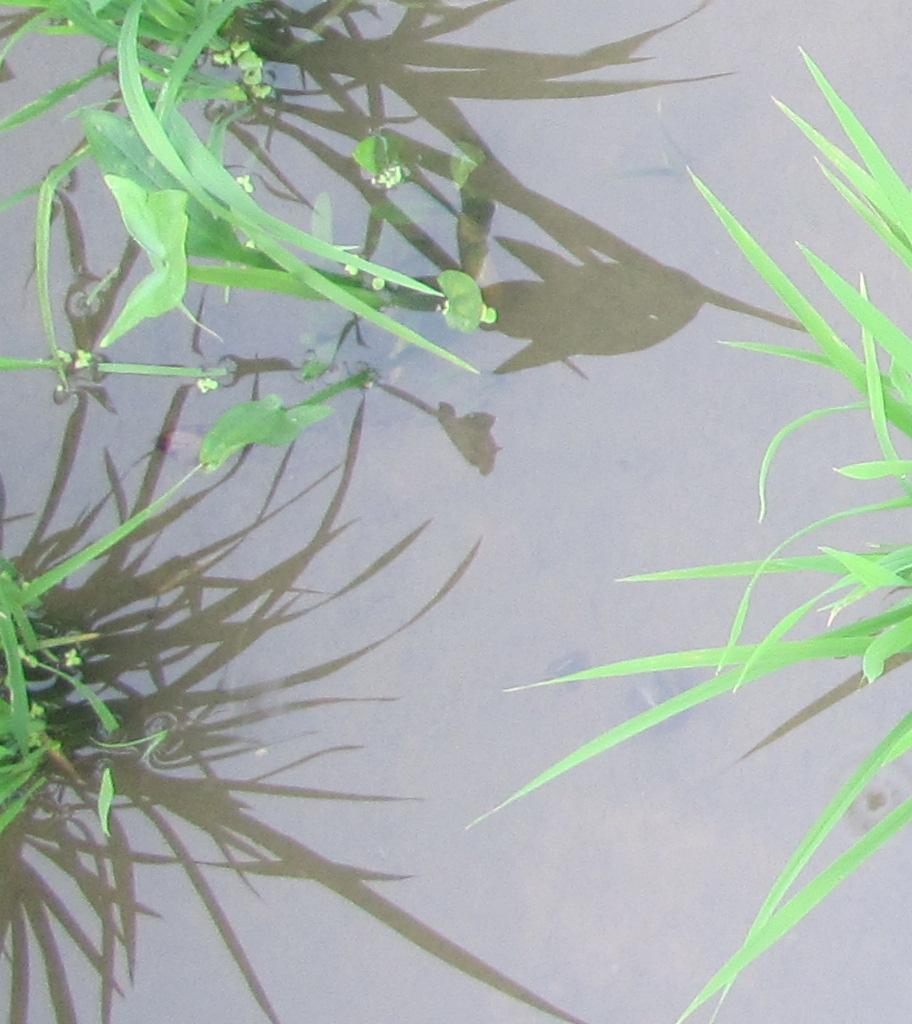Weed: (93, 167, 198, 350)
